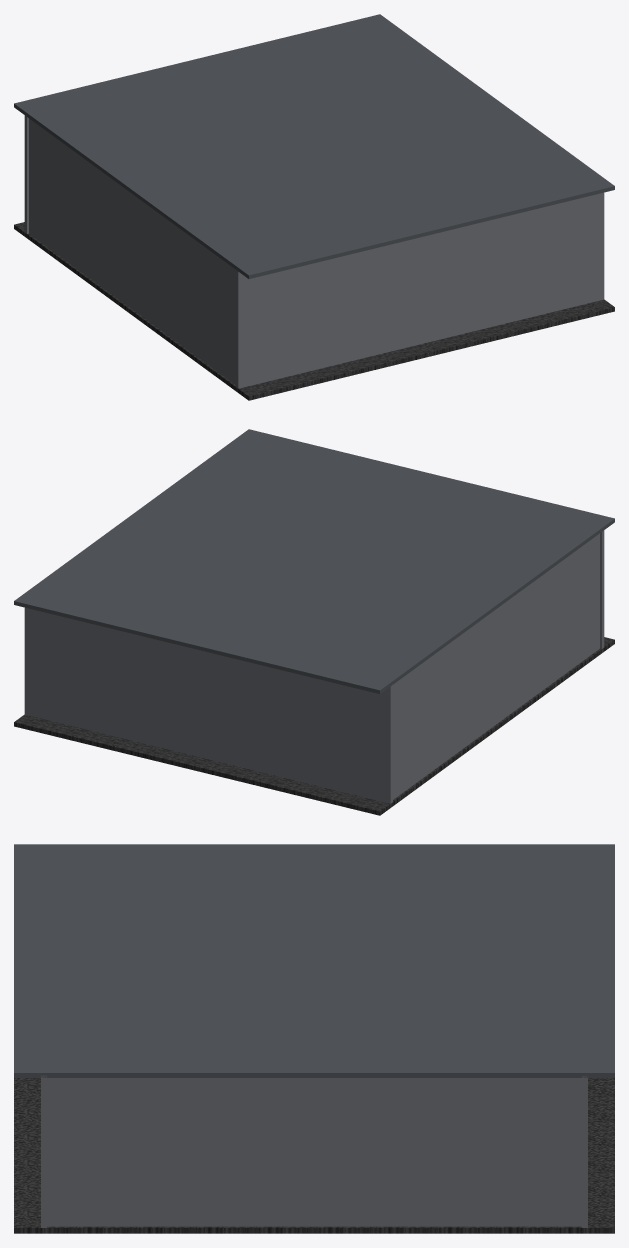
File: stancebound_garage.glb
3 renders of one model, top to bottom at view 1: azimuth 30°, elevation 25°; view 2: azimuth 150°, elevation 25°; view 3: azimuth 270°, elevation 25°, orthographic. The views are drawn at different scales.
Parts seen in each view (by area): view 1: Powder coat_1, Graphite steel_3, Graphite steel_4, Epoxy concrete_0, Graphite steel_2; view 2: Powder coat_1, Graphite steel_2, Graphite steel_4, Epoxy concrete_0, Graphite steel_3; view 3: Powder coat_1, Graphite steel_90, Epoxy concrete_0, Graphite steel_3, Graphite steel_2.
Part boxes in pixels (x1=…): Powder coat_1: x1=14, y1=14, x2=614, y2=278; Graphite steel_3: x1=236, y1=192, x2=604, y2=388; Graphite steel_4: x1=29, y1=118, x2=235, y2=384; Epoxy concrete_0: x1=14, y1=222, x2=614, y2=400; Graphite steel_2: x1=24, y1=114, x2=28, y2=233; Powder coat_1: x1=14, y1=429, x2=614, y2=693; Graphite steel_2: x1=24, y1=607, x2=392, y2=803; Graphite steel_4: x1=393, y1=533, x2=599, y2=799; Epoxy concrete_0: x1=14, y1=637, x2=614, y2=815; Graphite steel_3: x1=600, y1=530, x2=604, y2=648; Powder coat_1: x1=14, y1=844, x2=614, y2=1077; Graphite steel_90: x1=47, y1=1078, x2=581, y2=1226; Epoxy concrete_0: x1=14, y1=1078, x2=614, y2=1233; Graphite steel_3: x1=41, y1=1075, x2=46, y2=1227; Graphite steel_2: x1=582, y1=1076, x2=587, y2=1227.
Size of the model in its own units: 18 by 5.89 by 20.
Materials: 8 (2 with a texture image).
